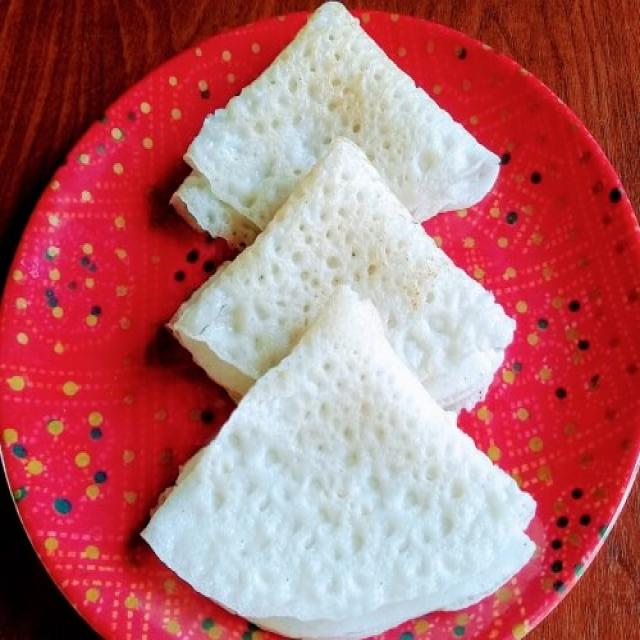DOSA: (143, 288, 535, 638), (172, 139, 515, 410), (173, 3, 499, 245), (351, 232, 511, 408), (173, 230, 339, 398)
